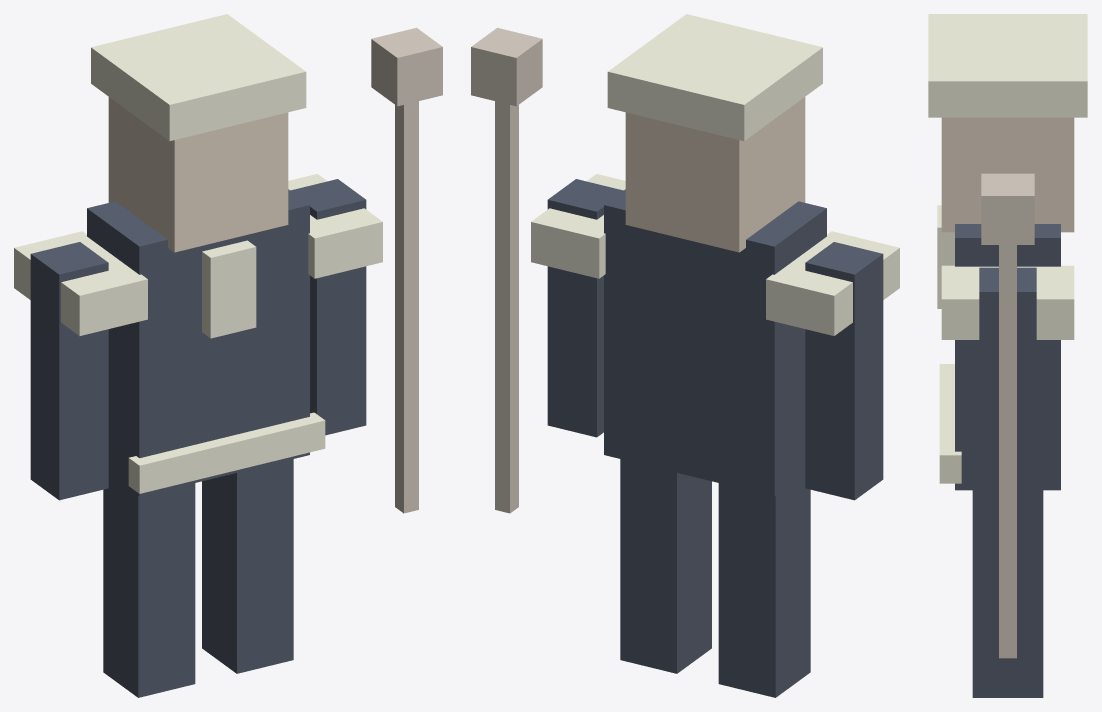
File: 02_isolde_frostrelay_cartographer_near_counterweight.glb
3 views of the same model, side by side, from view 1: azimuth 30°, elevation 25°; view 2: azimuth 150°, elevation 25°; view 3: azimuth 270°, elevation 25° (orthographic).
Visible parts, largest first — view 1: Isolde Frostrelay, Cartographer near Counterweight; view 2: Isolde Frostrelay, Cartographer near Counterweight; view 3: Isolde Frostrelay, Cartographer near Counterweight.
Boxes of the visible parts, left/top/right/bottom form: Isolde Frostrelay, Cartographer near Counterweight: left=14, top=14, right=442, bottom=697; Isolde Frostrelay, Cartographer near Counterweight: left=471, top=14, right=899, bottom=697; Isolde Frostrelay, Cartographer near Counterweight: left=928, top=14, right=1087, bottom=697.
Size of the model in its own units: 1.08 by 1.63 by 0.3842.
